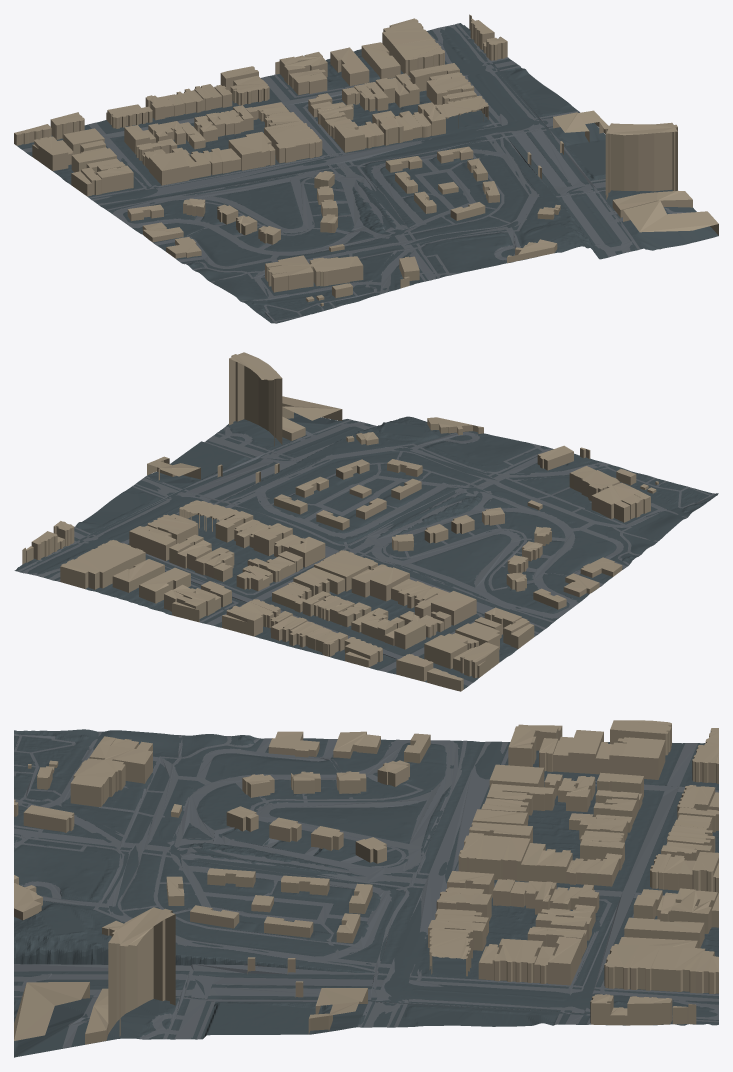
File: epsg26910-1433-10896.lod0.glb
3 renders of one model, top to bottom at view 1: azimuth 30°, elevation 25°; view 2: azimuth 150°, elevation 25°; view 3: azimuth 270°, elevation 25°, orthographic. The views are drawn at different scales.
Parts seen in each view (by area): view 1: epsg26910-1433-10896-lod0; view 2: epsg26910-1433-10896-lod0; view 3: epsg26910-1433-10896-lod0.
Boxes of the visible parts, <box> form: epsg26910-1433-10896-lod0: <box>14,14,718,323</box>; epsg26910-1433-10896-lod0: <box>14,352,718,691</box>; epsg26910-1433-10896-lod0: <box>14,720,718,1057</box>.
Size of the model in its own units: 384 by 67.41 by 384.
